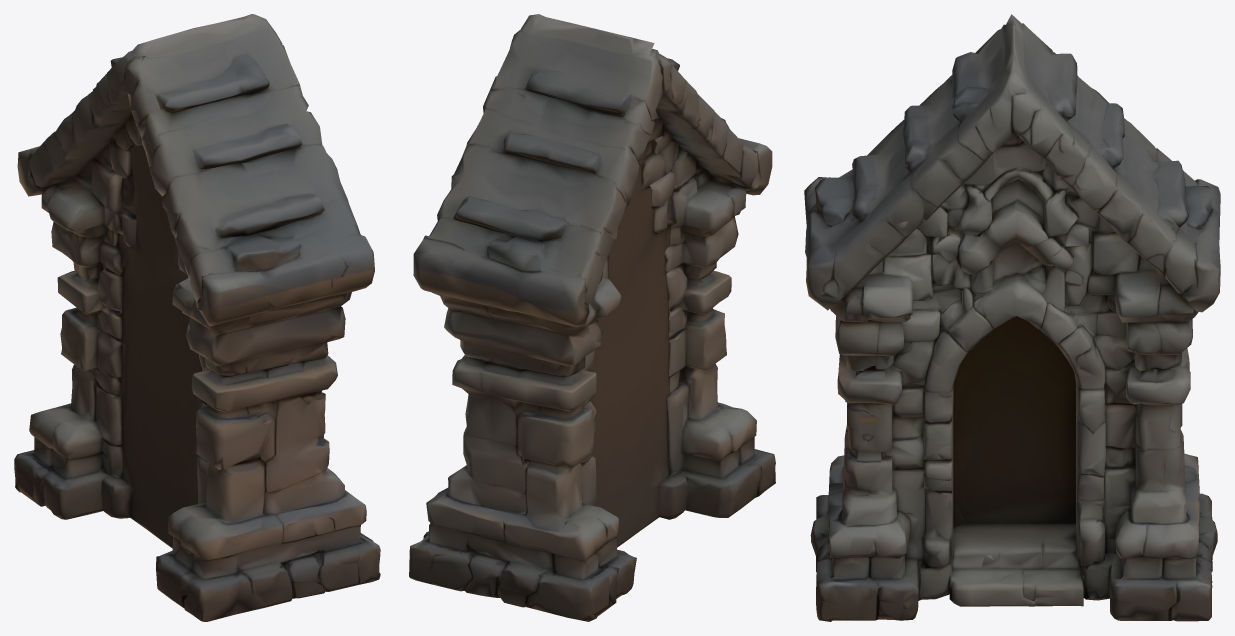
The model's file is mausoleum.glb.
3 renders of one model, left to right at view 1: azimuth 30°, elevation 25°; view 2: azimuth 150°, elevation 25°; view 3: azimuth 270°, elevation 25°, orthographic. The views are drawn at different scales.
Visible parts, largest first — view 1: tripo_node_624a2fe8-9152-4952-b6d8-ef51d7ae48e0; view 2: tripo_node_624a2fe8-9152-4952-b6d8-ef51d7ae48e0; view 3: tripo_node_624a2fe8-9152-4952-b6d8-ef51d7ae48e0.
Part boxes in pixels (x1=…): tripo_node_624a2fe8-9152-4952-b6d8-ef51d7ae48e0: x1=14, y1=14, x2=380, y2=621; tripo_node_624a2fe8-9152-4952-b6d8-ef51d7ae48e0: x1=409, y1=14, x2=775, y2=621; tripo_node_624a2fe8-9152-4952-b6d8-ef51d7ae48e0: x1=804, y1=14, x2=1220, y2=621.
Bounding box in the file's own units: 0.3843 × 1 × 0.7102.
1 material, 1 textured.
